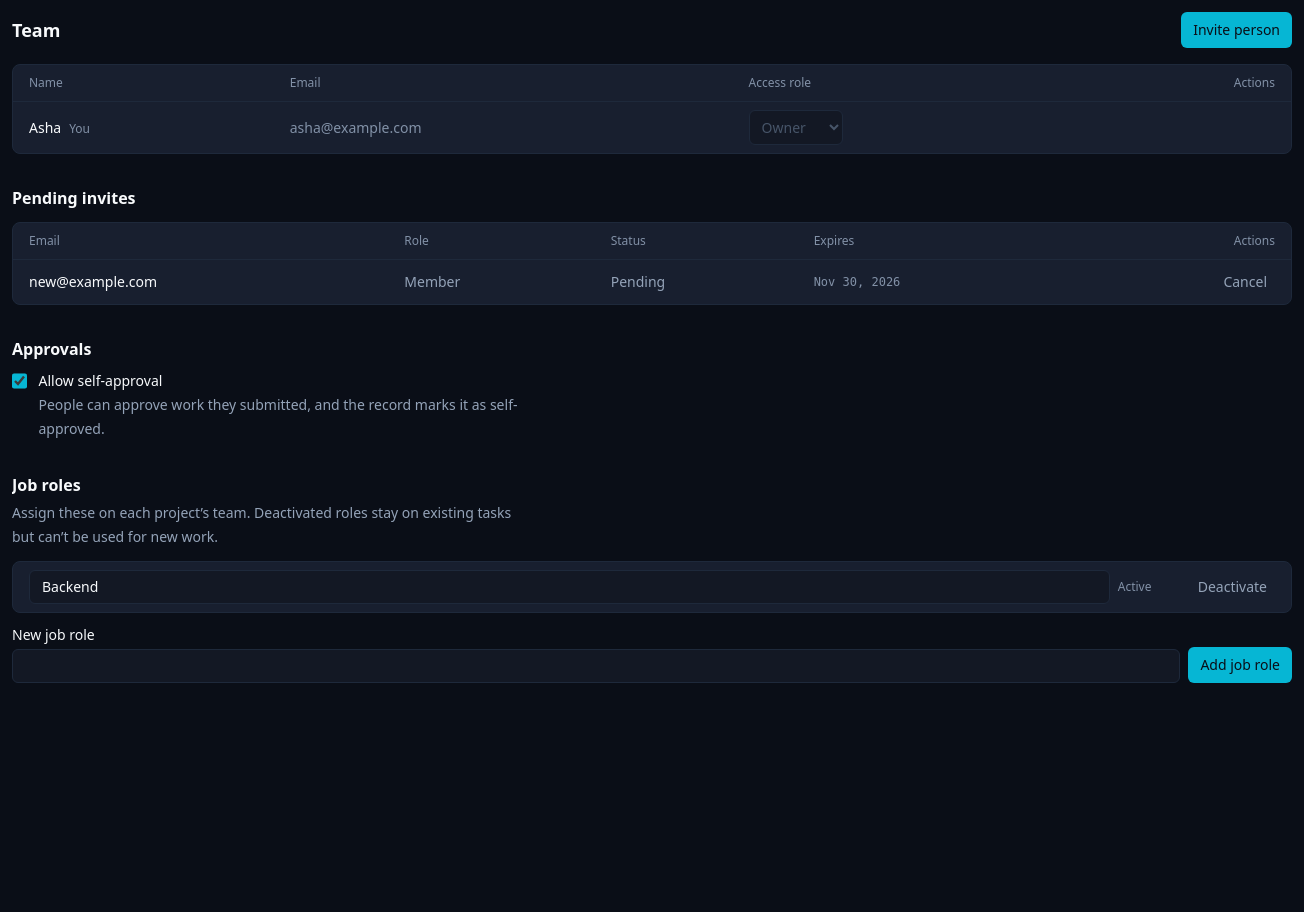
TeamPage › cancels a pending invite
Click the button with aria-label "Cancel invite for new@example.com".
click(1245, 282)  # box x1=1215 y1=268 x2=1275 y2=296
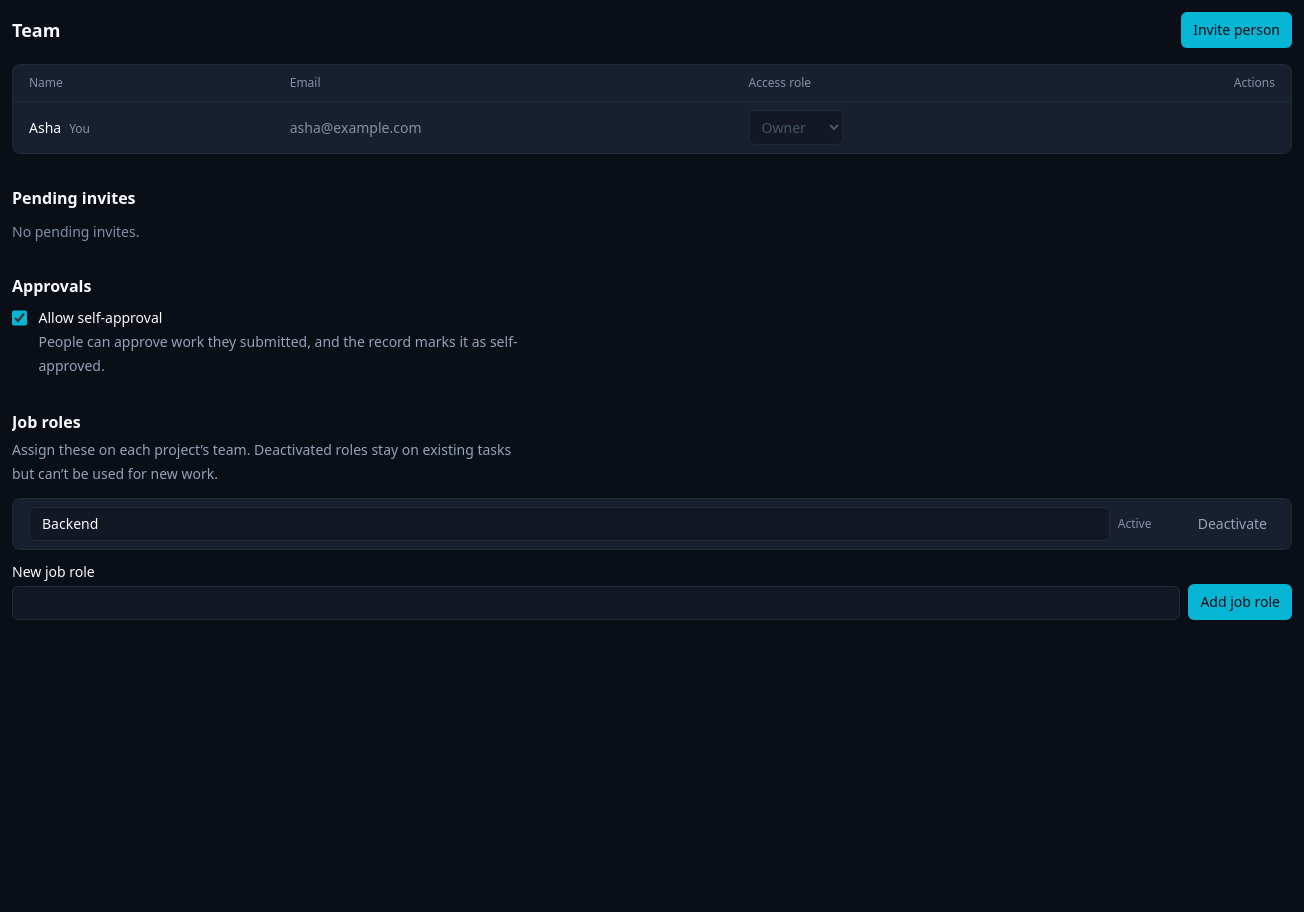
Check: the text "new@example.com" is gone
